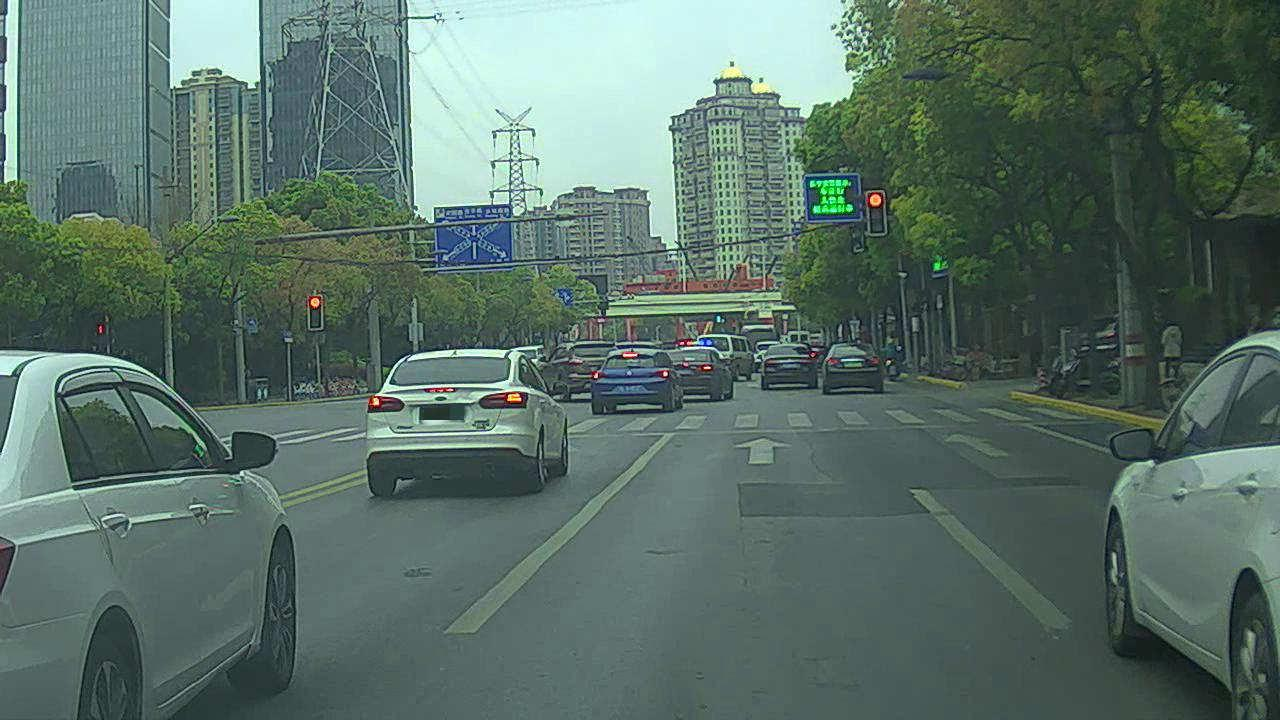traffic_light: (864, 188, 888, 238), (307, 295, 323, 329)
